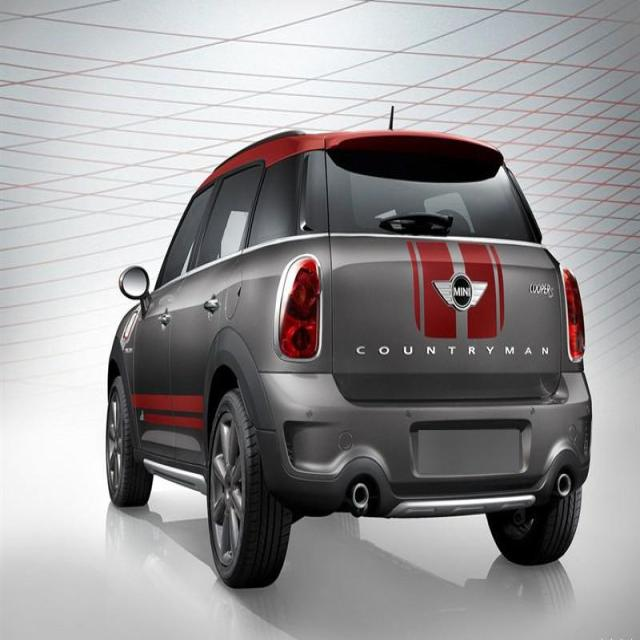back_glass: (325, 137, 538, 245)
back_left_side_light: (272, 250, 322, 364)
back_right_side_light: (559, 260, 589, 366)
front_left_side_door: (130, 172, 222, 467)
front_left_side_mirror: (118, 262, 150, 309)
rear_bumper: (256, 364, 594, 504)
wheel: (207, 392, 286, 584), (486, 488, 582, 560), (106, 380, 151, 508)
